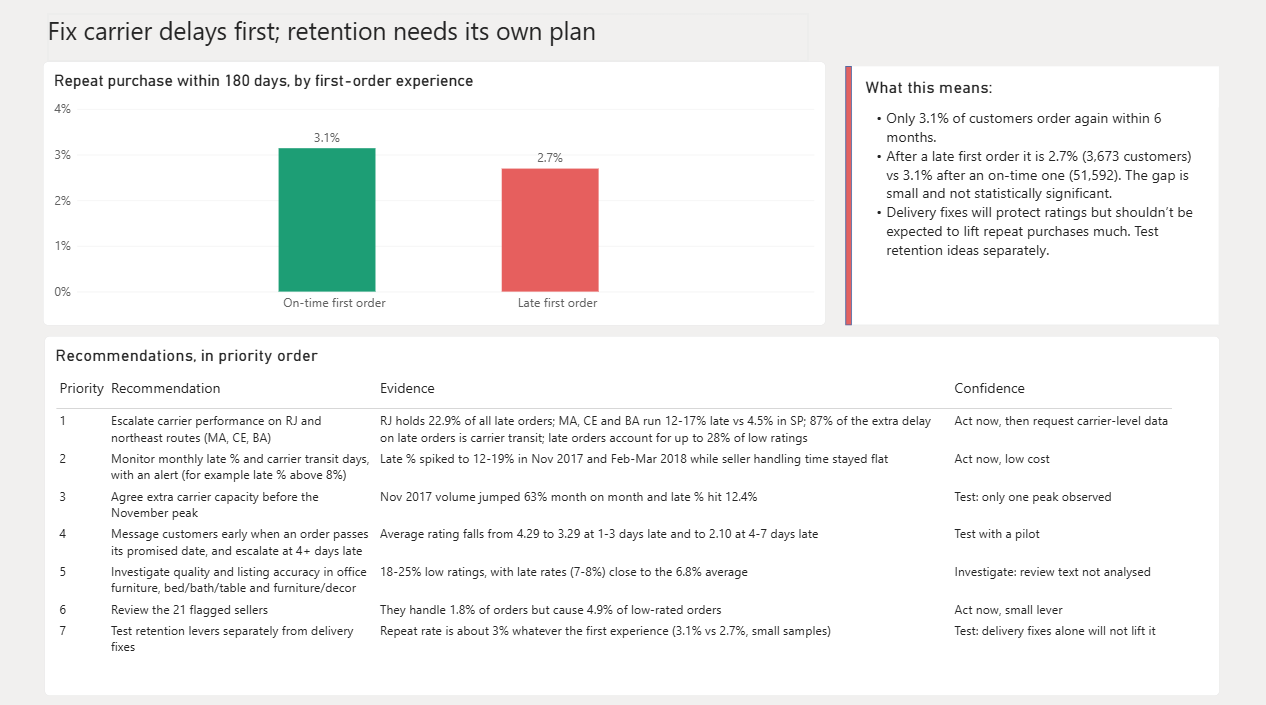

What the dashboard file says about the page in this screenshot:
{"tool":"powerbi","page":{"name":"Recommendations","canvas":[1920,1080],"ordinal":5},"visuals":[{"type":"textbox","box":[76.1,26.1,1151.3,71.8],"z":0},{"type":"clusteredColumnChart","title":"Repeat purchase within 180 days, by first-order experience","fields":{"Category":["bi_retention.First Order Status"],"Y":["bi_retention.Repeat 180d %"]},"box":[69,97.6,1185.7,400],"z":1000},{"type":"textbox","title":"What this means:","box":[1292.9,104.8,557.1,392.9],"z":2000},{"type":"shape","box":[1283.3,104.8,9.5,392.9],"z":3000},{"type":"tableEx","title":"Recommendations, in priority order","fields":{"Values":["Recommendations.Priority","Recommendations.Recommendation","Recommendations.Evidence","Recommendations.Confidence"]},"box":[69.6,513,1780.4,545.7],"z":4000}]}

Visuals, with their boxes in screenshot pixels (x1, y1, x2, y2), scaled from the page's 1920x1080 canvas onto the 1266x705 screenshot:
textbox: (left=50, top=17, right=809, bottom=64)
"Repeat purchase within 180 days, by first-order experience" clusteredColumnChart: (left=45, top=64, right=827, bottom=325)
"What this means:" textbox: (left=853, top=68, right=1220, bottom=325)
shape: (left=846, top=68, right=852, bottom=325)
"Recommendations, in priority order" tableEx: (left=46, top=335, right=1220, bottom=691)
